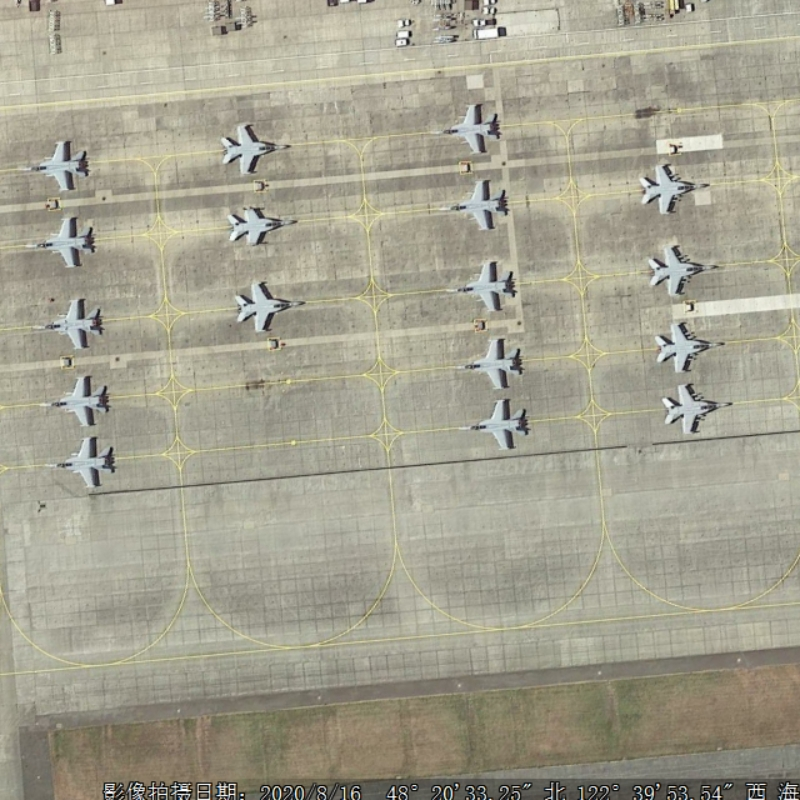A16: (450, 394, 532, 454), (19, 211, 98, 273), (651, 314, 726, 379), (439, 254, 520, 314), (644, 239, 724, 299), (635, 159, 714, 219), (229, 278, 308, 338), (426, 100, 505, 159), (40, 433, 117, 493), (216, 121, 296, 178), (449, 332, 523, 393), (27, 295, 104, 352), (437, 175, 510, 235), (659, 379, 737, 435), (36, 372, 109, 430), (14, 139, 90, 193), (225, 201, 301, 254)
